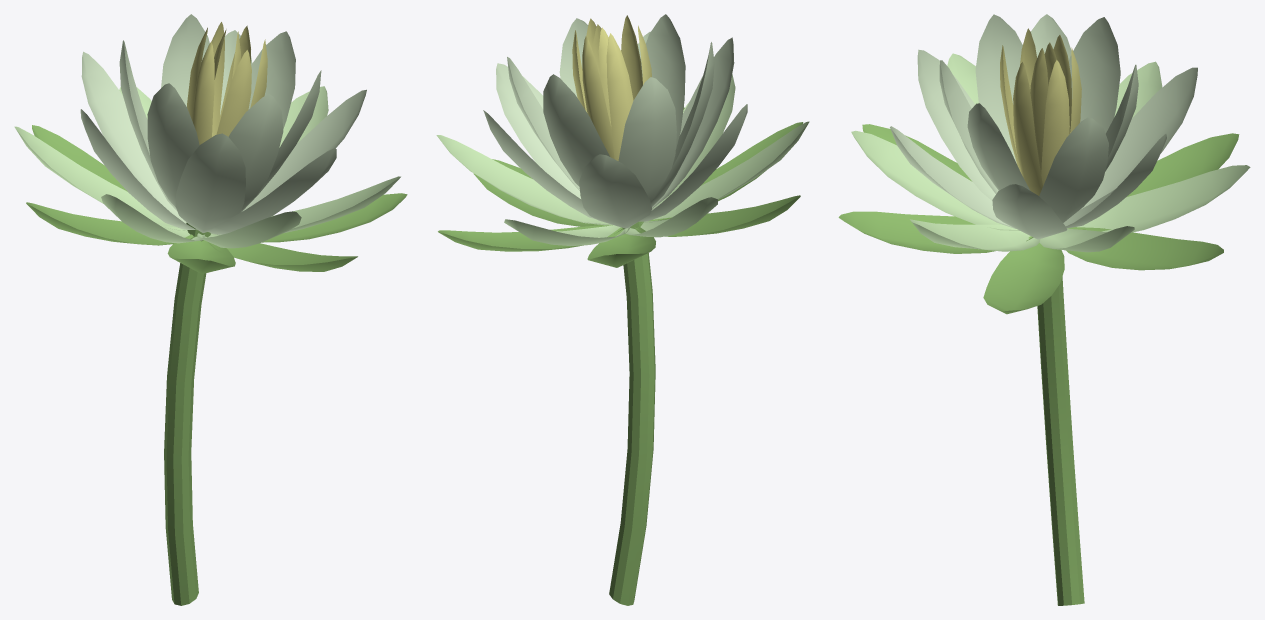
The model's file is Flower1.fbx.
The picture shows the model from 3 angles, left to right: view 1: azimuth 30°, elevation 25°; view 2: azimuth 150°, elevation 25°; view 3: azimuth 270°, elevation 25°; orthographic projection. The views are drawn at different scales.
Parts seen in each view (by area): view 1: Flower_Combine; view 2: Flower_Combine; view 3: Flower_Combine.
Boxes of the visible parts, box(x1,y1,x2,y2) form: Flower_Combine: box(14, 14, 407, 605); Flower_Combine: box(436, 14, 809, 605); Flower_Combine: box(838, 14, 1250, 605).
Size of the model in its own units: 1.77 by 2.7 by 1.73.
